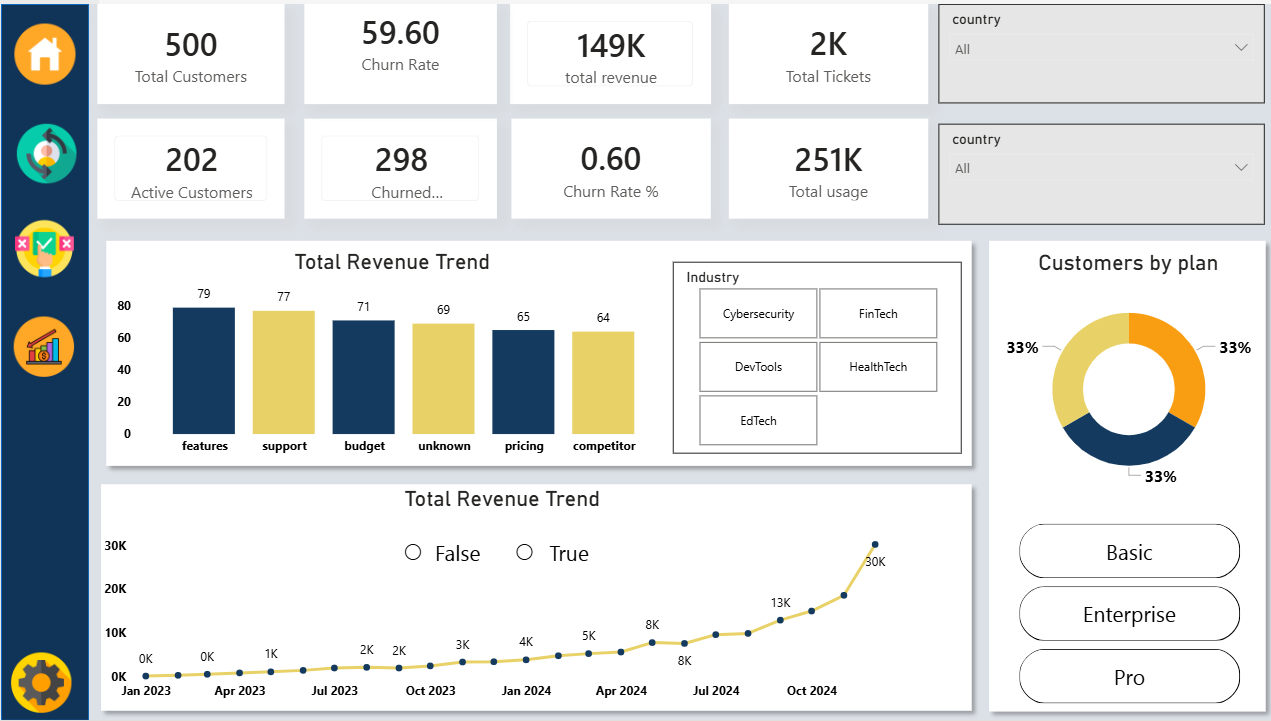

What the dashboard file says about the page in this screenshot:
{"tool":"powerbi","page":{"name":" Dashboard","canvas":[1280,720],"ordinal":1},"visuals":[{"type":"shape","box":[0,0,88.5,720.6],"z":1000},{"type":"shape","box":[96.9,229.6,887.8,244.2],"z":1500},{"type":"cardVisual","fields":{"Data":["Table.Total Customers"]},"box":[96.9,0,188.4,100.9],"z":2000},{"type":"cardVisual","fields":{"Data":["Table.total revenue"]},"box":[512.3,0,201.7,100.9],"z":3000},{"type":"cardVisual","fields":{"Data":["Table.Total Tickets"]},"box":[731.2,0,200.4,100.9],"z":4000},{"type":"cardVisual","fields":{"Data":["Table.Active Customers"]},"box":[96.9,115.5,188.4,100.9],"z":5000},{"type":"cardVisual","fields":{"Data":["Table.Churned Customers"]},"box":[305.2,115.5,193.8,100.9],"z":6000},{"type":"cardVisual","fields":{"Data":["Table.Churn Rate"]},"box":[305.2,0,193.8,100.9],"z":7000},{"type":"shape","box":[91.6,473.8,893.1,245.5],"z":8000},{"type":"shape","box":[984.7,229.6,295.9,491],"z":9000},{"type":"lineChart","title":"Total Revenue Trend","fields":{"Category":["ravenstack_subscriptions.start_date.Variation.Date Hierarchy.Year","ravenstack_subscriptions.start_date.Variation.Date Hierarchy.Month"],"Y":["Table.total revenue"]},"box":[97.5,484.6,811.3,226],"z":10000},{"type":"donutChart","title":"Customers by plan","fields":{"Y":["Table.Total Customers"],"Category":["ravenstack_subscriptions.plan_tier"]},"box":[996.7,246.8,274.7,256.1],"z":11000},{"type":"advancedSlicerVisual","fields":{"Values":["ravenstack_subscriptions.plan_tier"]},"box":[1017.9,517.6,232.2,191.1],"z":12000},{"type":"columnChart","title":"Total Revenue Trend","fields":{"Category":["ravenstack_churn_events.reason_code"],"Y":["Table.Churned Customers"]},"box":[111.5,245.5,564,217.6],"z":13000},{"type":"advancedSlicerVisual","fields":{"Values":["ravenstack_subscriptions.churn_flag"]},"box":[385.5,517.1,226,68.1],"z":14000},{"type":"image","box":[6.5,19.5,75.4,61.1],"z":15000},{"type":"image","box":[7.7,651.8,65,60.4],"z":16000},{"type":"image","box":[11.7,215.9,63.7,59.8],"z":17000},{"type":"image","box":[10.8,314.3,65,60.4],"z":18000},{"type":"image","box":[14.3,121,62.4,59.8],"z":20000},{"type":"cardVisual","fields":{"Data":["Table.Churn Rate %"]},"box":[513.6,115.5,200.4,100.9],"z":21000},{"type":"cardVisual","fields":{"Data":["Table.Total usage"]},"box":[731.2,115.5,200.4,100.9],"z":22000},{"type":"slicer","fields":{"Values":["ravenstack_accounts.country"]},"box":[943,121,327.8,101.5],"z":23000},{"type":"slicer","fields":{"Values":["ravenstack_accounts.country"]},"box":[943,0,327.8,100.2],"z":24000},{"type":"slicer","fields":{"Values":["ravenstack_accounts.industry"]},"box":[675.5,258.8,290.6,192.4],"z":24001}]}

Visuals, with their boxes on the page's 1280x720 design canvas (x1, y1, x2, y2). These are canvas units, not pixel positions in the 1271x721 screenshot, which may show the page scaled, cropped or inside an application window:
shape: [0, 0, 88, 721]
shape: [97, 230, 985, 474]
cardVisual - Table.Total Customers: [97, 0, 285, 101]
cardVisual - Table.total revenue: [512, 0, 714, 101]
cardVisual - Table.Total Tickets: [731, 0, 932, 101]
cardVisual - Table.Active Customers: [97, 116, 285, 216]
cardVisual - Table.Churned Customers: [305, 116, 499, 216]
cardVisual - Table.Churn Rate: [305, 0, 499, 101]
shape: [92, 474, 985, 719]
shape: [985, 230, 1281, 721]
"Total Revenue Trend" lineChart: [98, 485, 909, 711]
"Customers by plan" donutChart: [997, 247, 1271, 503]
advancedSlicerVisual - ravenstack_subscriptions.plan_tier: [1018, 518, 1250, 709]
"Total Revenue Trend" columnChart: [112, 246, 676, 463]
advancedSlicerVisual - ravenstack_subscriptions.churn_flag: [386, 517, 612, 585]
image: [6, 20, 82, 81]
image: [8, 652, 73, 712]
image: [12, 216, 75, 276]
image: [11, 314, 76, 375]
image: [14, 121, 77, 181]
cardVisual - Table.Churn Rate %: [514, 116, 714, 216]
cardVisual - Table.Total usage: [731, 116, 932, 216]
slicer - ravenstack_accounts.country: [943, 121, 1271, 222]
slicer - ravenstack_accounts.country: [943, 0, 1271, 100]
slicer - ravenstack_accounts.industry: [676, 259, 966, 451]
